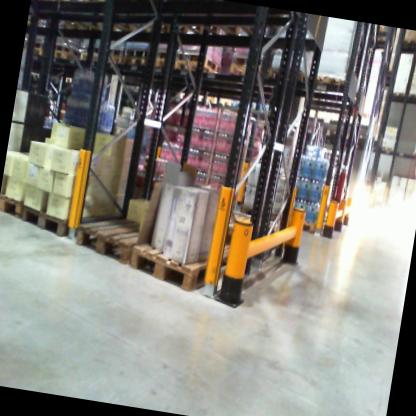pallet: (126, 230, 258, 304), (14, 198, 130, 251), (73, 209, 157, 271), (78, 0, 161, 44), (25, 39, 77, 65), (222, 56, 267, 85), (311, 68, 354, 91), (175, 58, 224, 78), (284, 215, 324, 237), (0, 190, 26, 222), (78, 45, 108, 68), (148, 55, 176, 75), (121, 52, 146, 73), (38, 0, 81, 11), (108, 50, 124, 70)
